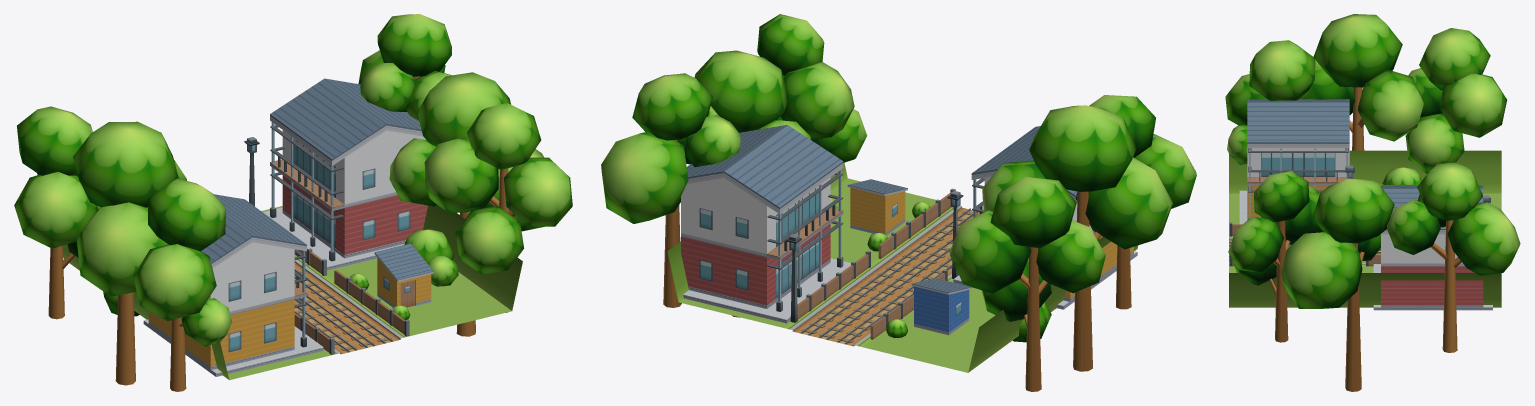
The model's file is Road06.FBX.
The picture shows the model from 3 angles, left to right: view 1: azimuth 30°, elevation 25°; view 2: azimuth 150°, elevation 25°; view 3: azimuth 270°, elevation 25°; orthographic projection. The views are drawn at different scales.
Parts seen in each view (by area): view 1: Tree, House, Side, Rail, Plant; view 2: Tree, House, Side, Rail (×2), Plant; view 3: Tree, House, Side, Plant.
Part boxes in pixels (x1=…): Tree: x1=14, y1=14, x2=572, y2=391; House: x1=143, y1=78, x2=433, y2=376; Side: x1=63, y1=205, x2=522, y2=380; Rail: x1=294, y1=279, x2=400, y2=354; Plant: x1=103, y1=229, x2=458, y2=319; Tree: x1=601, y1=14, x2=1196, y2=391; House: x1=676, y1=125, x2=1137, y2=339; Side: x1=667, y1=162, x2=1138, y2=372; Rail (×2): x1=793, y1=207, x2=979, y2=346; Plant: x1=830, y1=198, x2=1051, y2=342; Tree: x1=1225, y1=14, x2=1520, y2=391; House: x1=1229, y1=99, x2=1492, y2=310; Side: x1=1229, y1=150, x2=1501, y2=307; Plant: x1=1380, y1=167, x2=1421, y2=185.
Size of the model in its own units: 5190 by 3043 by 3467.
